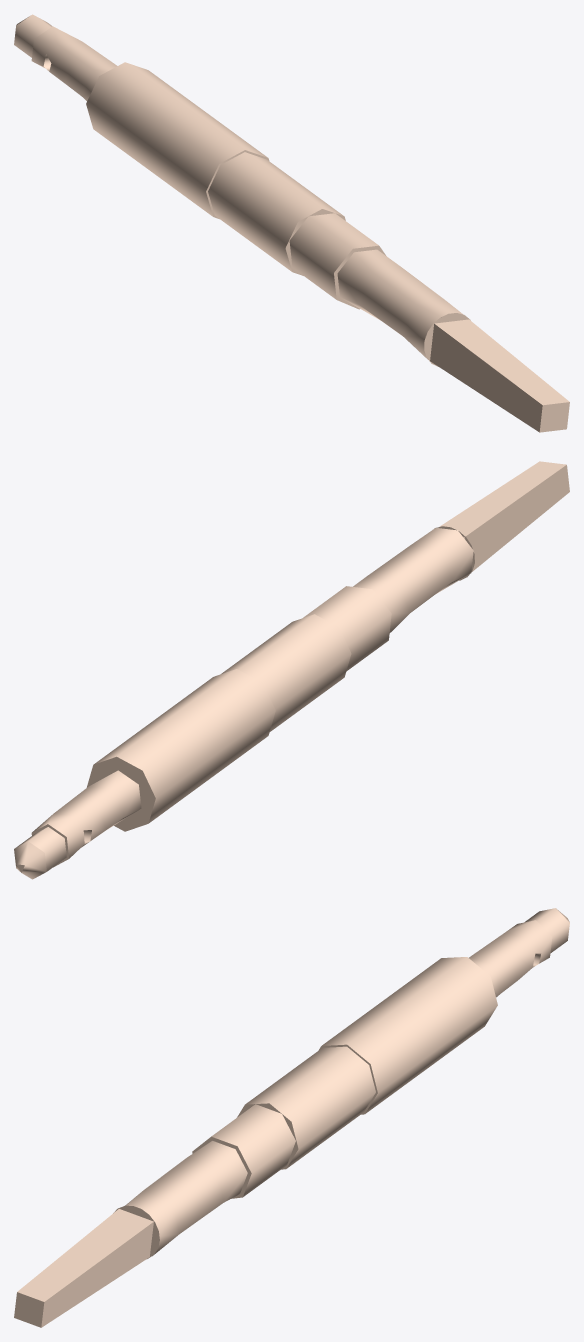
File: Axe barillet_Mouvement.obj
3 views of the same model, one above another, from view 1: azimuth 30°, elevation 25°; view 2: azimuth 150°, elevation 25°; view 3: azimuth 330°, elevation 25° (orthographic).
Visible parts, largest first — view 1: Face_7, Face_9, Face_13, Face_17, Face_11, Face_5, Face_19, Face_3, Face_15; view 2: Face_7, Face_9, Face_13, Face_5, Face_11, Face_17, Face_19, Face_6, Face_3, Face_2; view 3: Face_7, Face_9, Face_13, Face_19, Face_11, Face_5, Face_18, Face_3, Face_15.
Boxes of the visible parts, x1,y1,x2,y2 form: Face_7: [86, 62, 267, 216]; Face_9: [208, 152, 343, 271]; Face_13: [337, 249, 462, 359]; Face_17: [430, 324, 542, 432]; Face_11: [289, 213, 378, 299]; Face_5: [31, 26, 117, 100]; Face_19: [435, 319, 569, 405]; Face_3: [14, 14, 52, 57]; Face_15: [539, 402, 569, 432]; Face_7: [94, 669, 275, 823]; Face_9: [221, 614, 351, 731]; Face_13: [353, 528, 473, 632]; Face_5: [32, 770, 141, 858]; Face_11: [303, 586, 391, 671]; Face_17: [465, 465, 569, 572]; Face_19: [439, 461, 566, 536]; Face_6: [86, 756, 155, 831]; Face_3: [16, 827, 66, 871]; Face_2: [14, 841, 46, 879]; Face_7: [322, 957, 497, 1113]; Face_9: [245, 1046, 375, 1168]; Face_13: [125, 1141, 247, 1256]; Face_19: [17, 1209, 153, 1301]; Face_11: [211, 1104, 295, 1196]; Face_5: [469, 920, 552, 997]; Face_18: [41, 1222, 153, 1327]; Face_3: [525, 908, 569, 953]; Face_15: [14, 1292, 44, 1327].
Bounding box in the file's own units: 0.0109 × 0.0109 × 0.1446.
